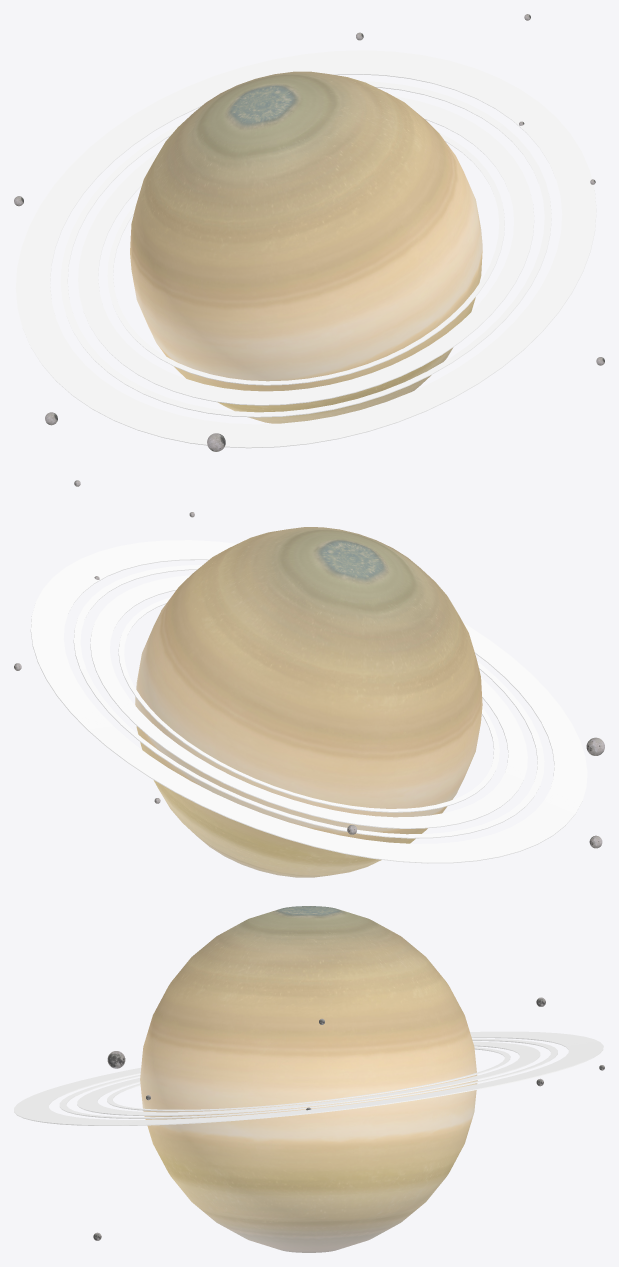
The model's file is saturnol.glb.
3 views of the same model, one above another, from view 1: azimuth 30°, elevation 25°; view 2: azimuth 150°, elevation 25°; view 3: azimuth 270°, elevation 25° (orthographic). The views are drawn at different scales.
Visible parts, largest first — view 1: Esfera.005; view 2: Esfera.005; view 3: Esfera.005.
Part boxes in pixels (x1,y1,x2,y2): Esfera.005: [14, 14, 604, 451]; Esfera.005: [14, 480, 604, 877]; Esfera.005: [14, 906, 604, 1252].
Size of the model in its own units: 7.86 by 4.89 by 8.1.
Materials: 13 (10 with a texture image).
